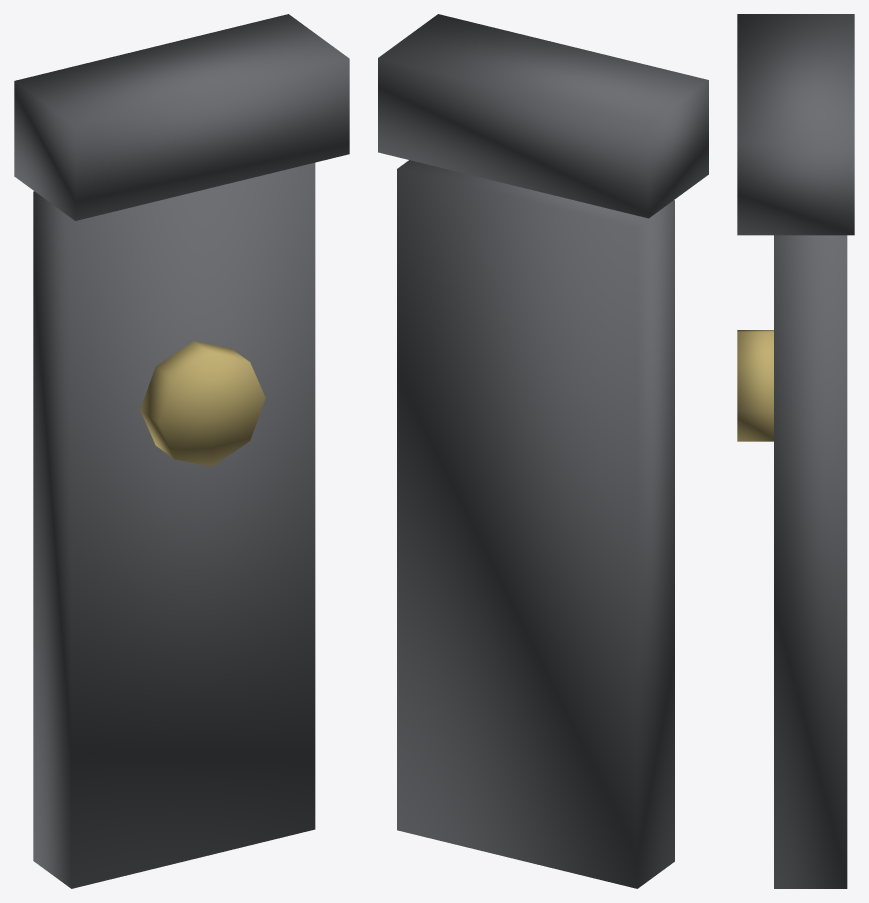
Rendered from elevator_call_03.glb.
3 views of the same model, side by side, from view 1: azimuth 30°, elevation 25°; view 2: azimuth 150°, elevation 25°; view 3: azimuth 270°, elevation 25° (orthographic). The views are drawn at different scales.
Parts seen in each view (by area): view 1: world; view 2: world; view 3: world.
Boxes of the visible parts, bbox=[...] form: world: bbox=[14, 14, 349, 888]; world: bbox=[378, 14, 708, 888]; world: bbox=[737, 14, 854, 888].
Bounding box in the file's own units: 0.1872 × 0.5096 × 0.072.
